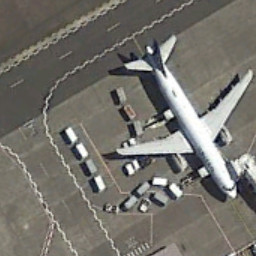Airplane: (99, 27, 256, 213)
